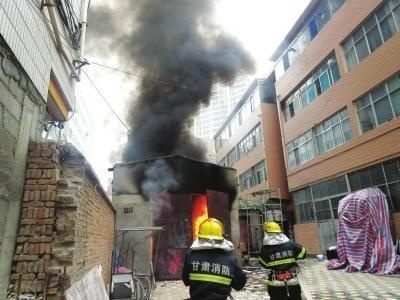fire: (192, 193, 209, 235)
